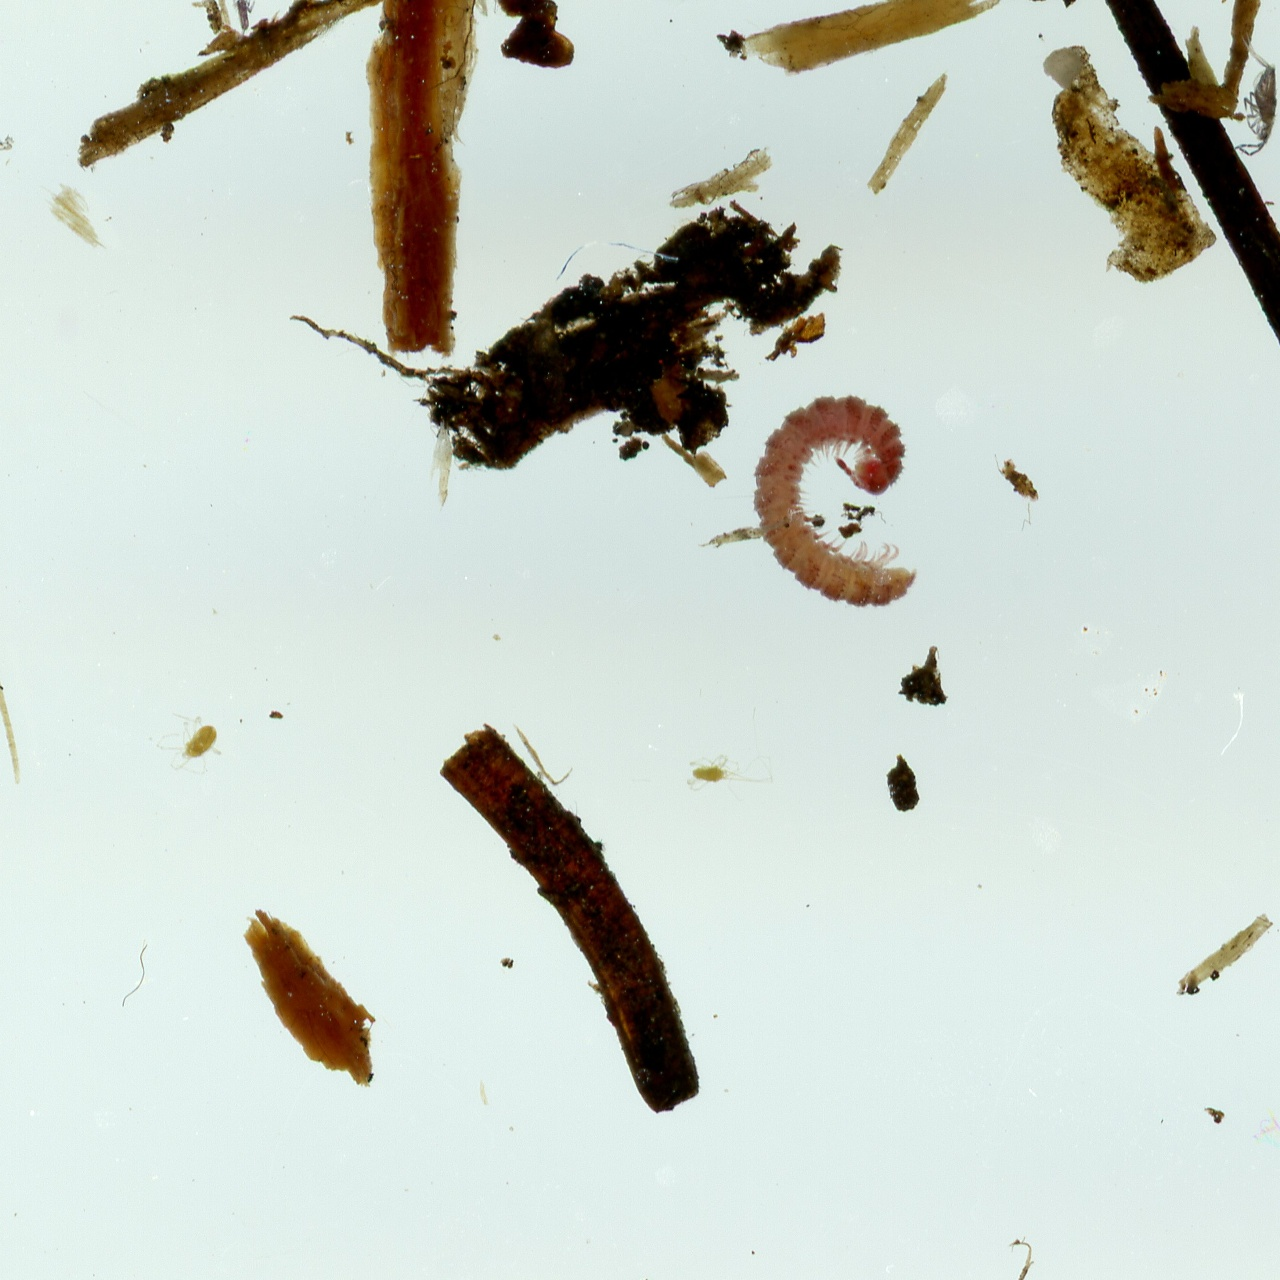arthropod: (744, 388, 921, 612), (1231, 27, 1280, 162), (154, 706, 231, 781), (682, 751, 777, 804), (990, 451, 1041, 506), (229, 0, 261, 43)
